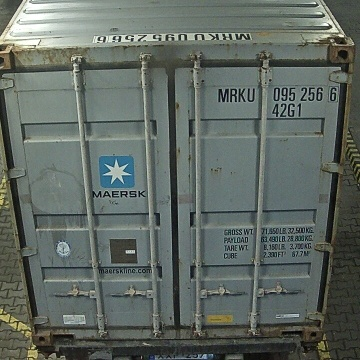serial_id: (218, 86, 338, 101)
